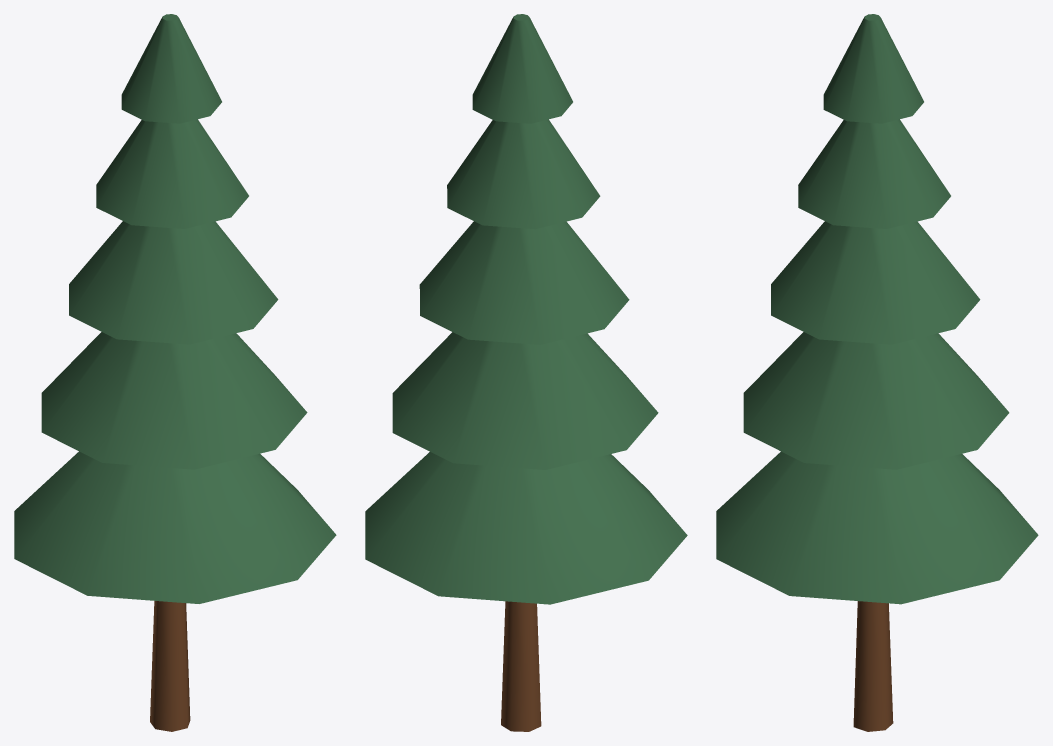
The model's file is tree-conifer.glb.
3 renders of one model, left to right at view 1: azimuth 30°, elevation 25°; view 2: azimuth 150°, elevation 25°; view 3: azimuth 270°, elevation 25°, orthographic.
Parts seen in each view (by area): view 1: tree-conifer; view 2: tree-conifer; view 3: tree-conifer.
Part boxes in pixels (x1,y1,x2,y2): tree-conifer: [14, 14, 336, 731]; tree-conifer: [365, 14, 687, 731]; tree-conifer: [716, 14, 1038, 731].
Bounding box in the file's own units: 3.15 × 7.5 × 3.1.
